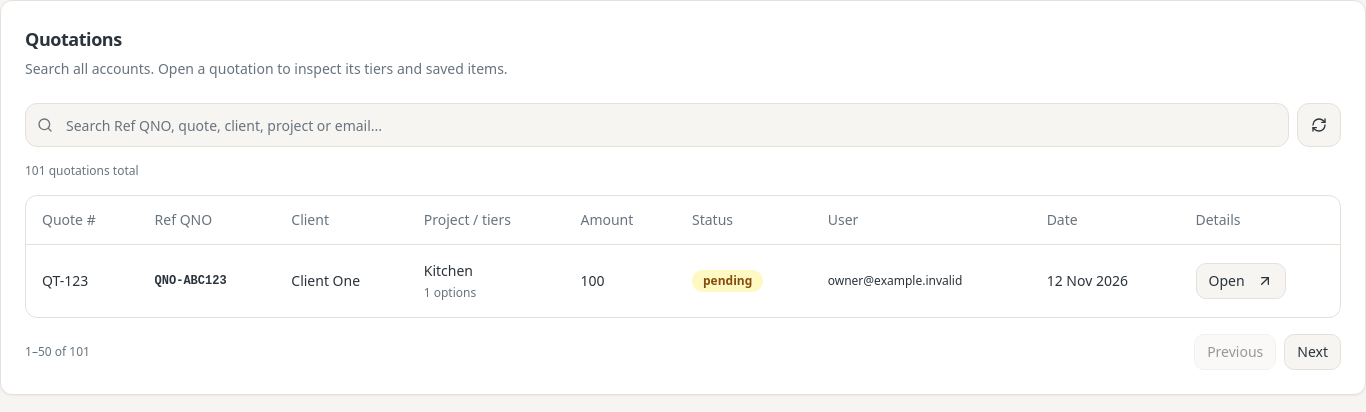
Test case: shows references, paginates and searches from the first page
The width and height of the screenshot is (1366, 412).
Click the button "Next" at (1313, 352), box [1284,334,1341,370]
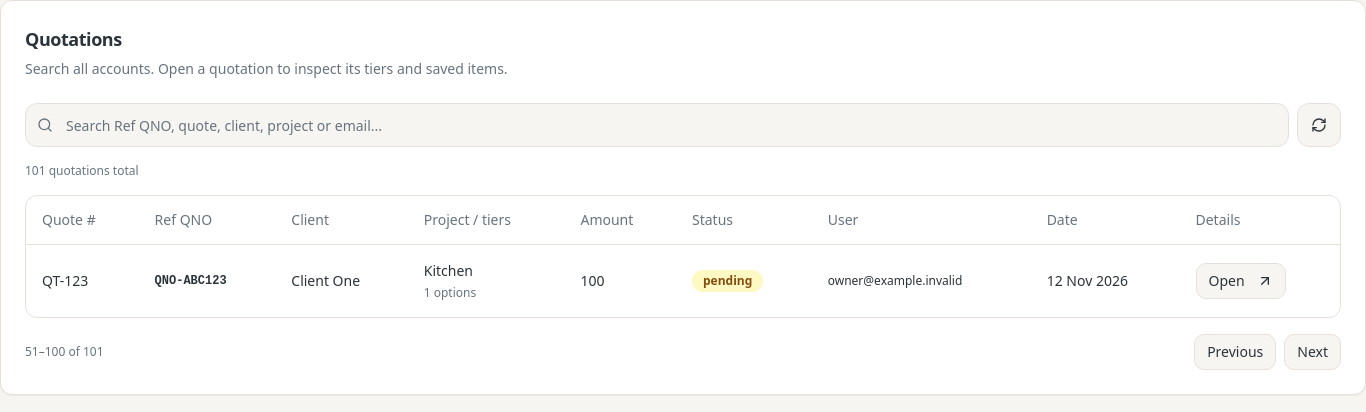
Type " QNO-ABC123 " into the search field at (657, 125), box [25,103,1289,147]
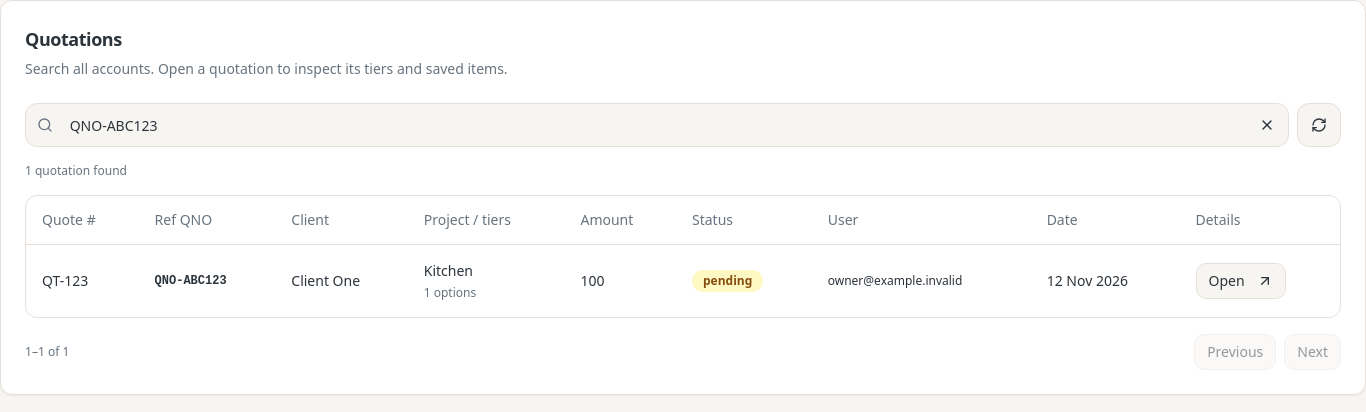
Expected: the message reads "1 quotation found", [25,162,127,179]
Expected: the button "Next" is disabled, [1284,334,1341,370]
